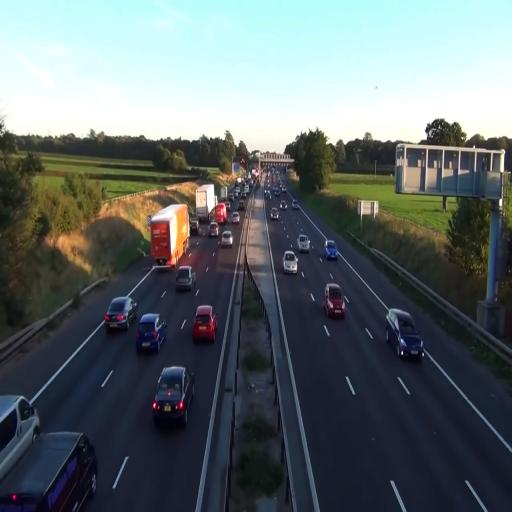vehicle: (0, 430, 98, 510), (0, 394, 41, 492), (151, 364, 195, 428), (148, 203, 190, 268), (384, 307, 424, 361), (135, 314, 167, 354), (104, 296, 132, 333), (192, 305, 217, 344), (195, 182, 217, 223), (324, 282, 346, 320), (104, 304, 130, 334), (175, 265, 197, 293), (282, 250, 298, 274), (296, 233, 312, 253), (324, 240, 338, 262), (220, 226, 234, 246), (208, 220, 220, 238)
